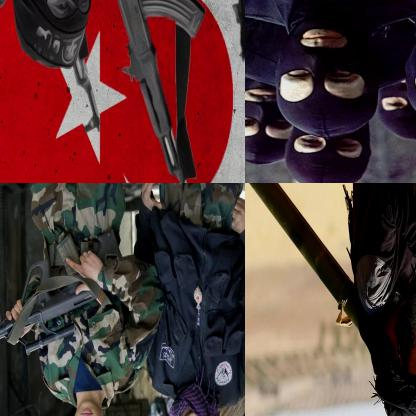rifle: (245, 183, 415, 415), (99, 0, 207, 182), (0, 226, 121, 369), (245, 0, 363, 58)
